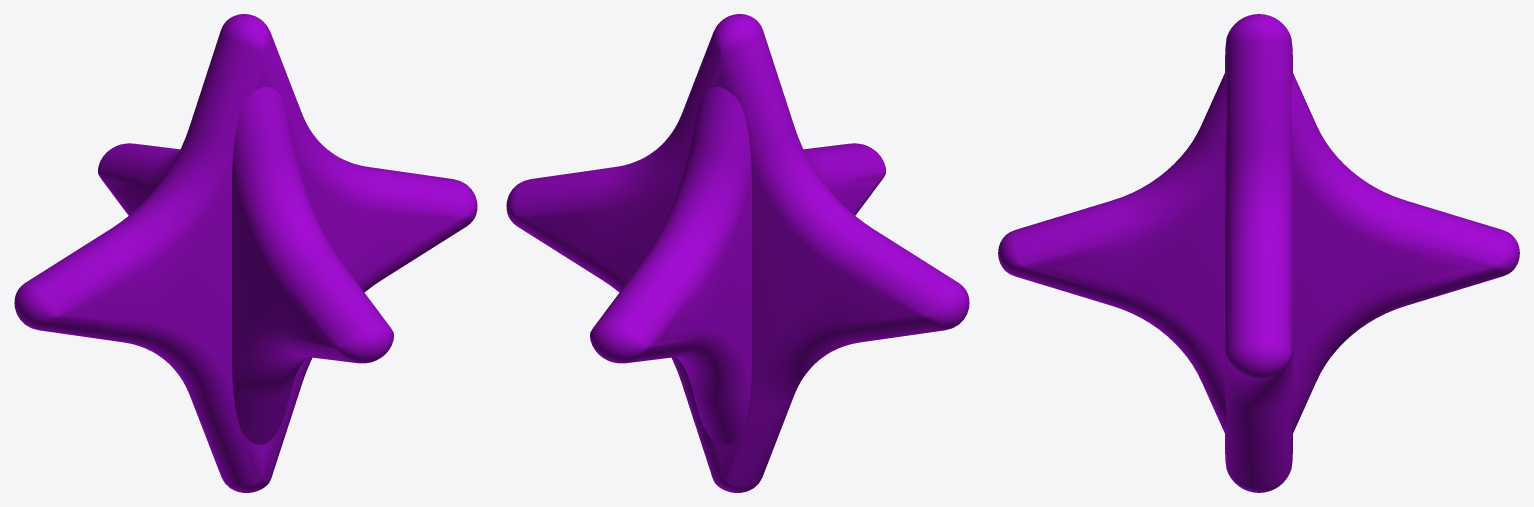
Rendered from star.glb.
The picture shows the model from 3 angles, left to right: view 1: azimuth 30°, elevation 25°; view 2: azimuth 150°, elevation 25°; view 3: azimuth 270°, elevation 25°; orthographic projection.
Parts seen in each view (by area): view 1: Merged Geometry; view 2: Merged Geometry; view 3: Merged Geometry.
Part boxes in pixels (<box>): Merged Geometry: <box>14,14,477,492</box>; Merged Geometry: <box>506,14,969,492</box>; Merged Geometry: <box>998,14,1519,492</box>.
Bounding box in the file's own units: 2.31 × 2.3 × 2.3.
